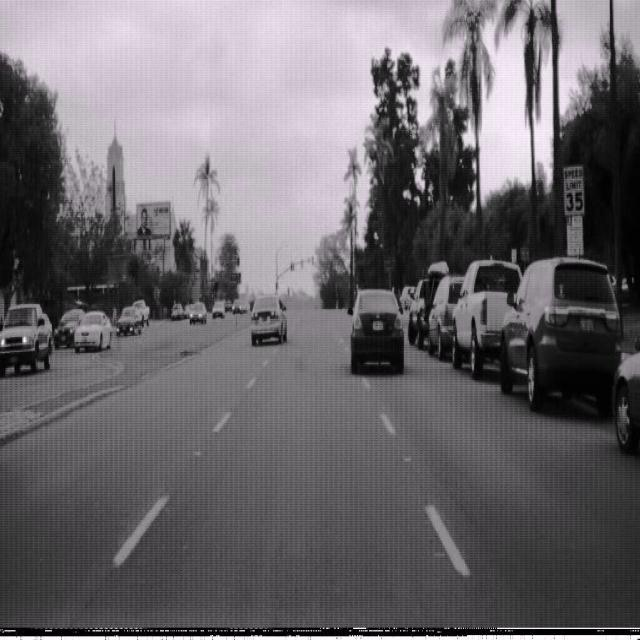speedLimit35: (562, 163, 586, 217)
